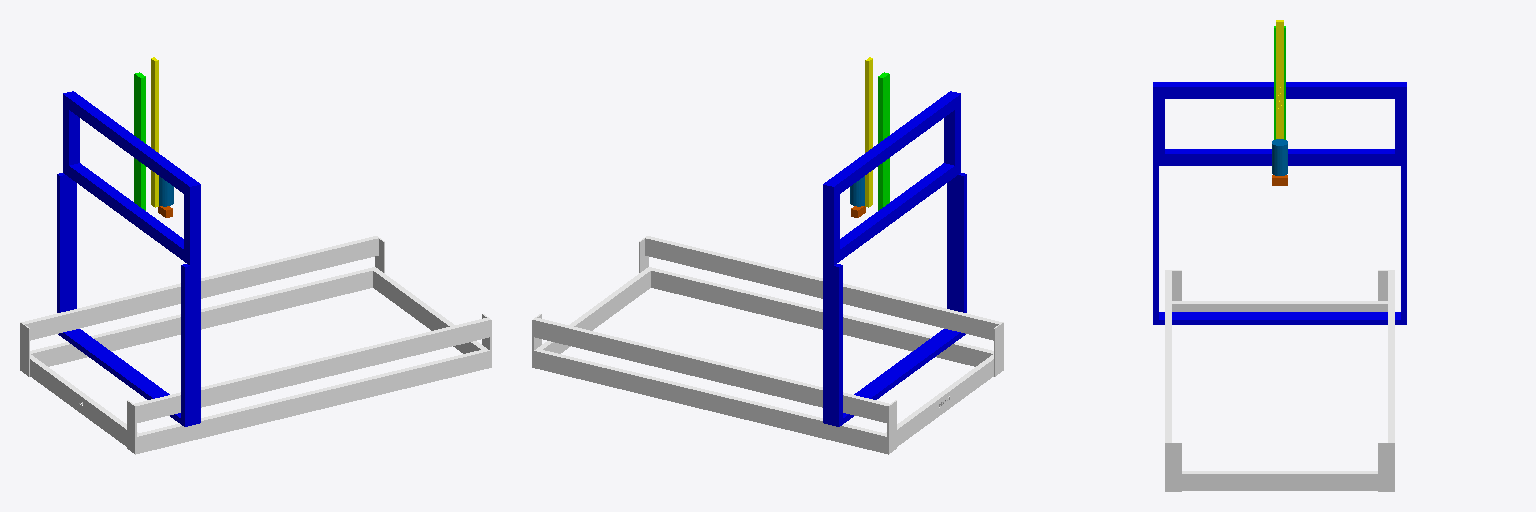
The robot description file, URDF, robot "gantry":
<?xml version="1.0" encoding="utf-8"?>
<!-- =================================================================================== -->
<!-- |    This document was autogenerated by xacro from gantry_robot.urdf.xacro        | -->
<!-- |    EDITING THIS FILE BY HAND IS NOT RECOMMENDED                                 | -->
<!-- =================================================================================== -->
<robot name="gantry">
  <gazebo>
    <plugin filename="libgazebo_ros_control.so" name="ros_control">
      <!--robotNamespace>/slave</robotNamespace-->
      <!--robotSimType>gazebo_ros_control/DefaultRobotHWSim</robotSimType-->
      <legacyModeNS>true</legacyModeNS>
    </plugin>
  </gazebo>
  <transmission name="gantryX_trans">
    <type>transmission_interface/SimpleTransmission</type>
    <joint name="gantryX">
      <hardwareInterface>hardware_interface/PositionJointInterface</hardwareInterface>
    </joint>
    <actuator name="gantryX_motor">
      <mechanicalReduction>1</mechanicalReduction>
    </actuator>
  </transmission>
  <transmission name="gantryY_trans">
    <type>transmission_interface/SimpleTransmission</type>
    <joint name="gantryY">
      <hardwareInterface>hardware_interface/PositionJointInterface</hardwareInterface>
    </joint>
    <actuator name="gantryY_motor">
      <mechanicalReduction>1</mechanicalReduction>
    </actuator>
  </transmission>
  <transmission name="gantryZ_trans">
    <type>transmission_interface/SimpleTransmission</type>
    <joint name="gantryZ">
      <hardwareInterface>hardware_interface/PositionJointInterface</hardwareInterface>
    </joint>
    <actuator name="gantryZ_motor">
      <mechanicalReduction>1</mechanicalReduction>
    </actuator>
  </transmission>
  <transmission name="gantryYAW_trans">
    <type>transmission_interface/SimpleTransmission</type>
    <joint name="gantryYAW">
      <hardwareInterface>hardware_interface/PositionJointInterface</hardwareInterface>
    </joint>
    <actuator name="gantryYAW_motor">
      <mechanicalReduction>1</mechanicalReduction>
    </actuator>
  </transmission>
  <gazebo reference="gantryX">
    <selfCollide>true</selfCollide>
  </gazebo>
  <gazebo reference="gantryY">
    <selfCollide>true</selfCollide>
  </gazebo>
  <gazebo reference="gantryZ">
    <selfCollide>true</selfCollide>
  </gazebo>
  <gazebo reference="gantryYAW">
    <selfCollide>true</selfCollide>
  </gazebo>
  <gazebo reference="gantryPITCH">
    <selfCollide>true</selfCollide>
  </gazebo>
  <link name="base_link">
    <!-- fixed structure -->
    <inertial>
      <mass value="1.0"/>
      <inertia ixx="1.0" ixy="0.0" ixz="0.0" iyy="1.0" iyz="0.0" izz="1.0"/>
    </inertial>
    <visual>
      <geometry>
        <mesh filename="package://gantry_description/meshes/Simulation_Base.STL"/>
      </geometry>
      <!--origin rpy="0 0 0" xyz="0.875 -0.565 0" /-->
      <origin rpy="0 0 0" xyz="0.875 0 0"/>
      <material name="white">
        <color rgba="1 1 1 1"/>
      </material>
    </visual>
    <collision>
      <geometry>
        <mesh filename="package://gantry_description/meshes/Simulation_Base.STL"/>
      </geometry>
      <!--origin rpy="0 0 0" xyz="0.875 -0.565 0" /-->
      <origin rpy="0 0 0" xyz="0.875 0 0"/>
    </collision>
  </link>
  <joint name="gantryX" type="prismatic">
    <parent link="base_link"/>
    <child link="gantryX_link"/>
    <limit effort="1" lower="0" upper="1.75" velocity="0.5"/>
    <axis xyz="1 0 0"/>
    <origin rpy="0 0 0" xyz="0 0 0.14288"/>
  </joint>
  <link name="gantryX_link">
    <inertial>
      <mass value="1.0"/>
      <inertia ixx="1.0" ixy="0.0" ixz="0.0" iyy="1.0" iyz="0.0" izz="1.0"/>
    </inertial>
    <visual>
      <geometry>
        <mesh filename="package://gantry_description/meshes/Simulation_X_Axis.STL"/>
      </geometry>
      <!--origin rpy="0 0 0" xyz="0 -0.565 0.5461" /-->
      <origin rpy="0 0 0" xyz="0 0 0.5461"/>
      <material name="blue">
        <color rgba="0 0 1 1"/>
      </material>
    </visual>
    <collision>
      <geometry>
        <mesh filename="package://gantry_description/meshes/Simulation_X_Axis.STL"/>
      </geometry>
      <!--origin rpy="0 0 0" xyz="0 -0.565 0.5461" /-->
      <origin rpy="0 0 0" xyz="0 0 0.5461"/>
    </collision>
  </link>
  <joint name="gantryY" type="prismatic">
    <parent link="gantryX_link"/>
    <child link="gantryY_link"/>
    <!--limit effort="1" lower="0" upper="1.0" velocity="0.5" /-->
    <limit effort="1" lower="-0.5" upper="0.5" velocity="0.5"/>
    <axis xyz="0 1 0"/>
    <!--axis xyz="0 -1 0" /-->
    <origin rpy="0 0 0" xyz="0.077 0 1.49793"/>
    <!-- 0.077 0 1.49793 -->
  </joint>
  <link name="gantryY_link">
    <inertial>
      <mass value="1.0"/>
      <inertia ixx="1.0" ixy="0.0" ixz="0.0" iyy="1.0" iyz="0.0" izz="1.0"/>
    </inertial>
    <visual>
      <geometry>
        <mesh filename="package://gantry_description/meshes/Simulation_Y_Axis.STL"/>
      </geometry>
      <origin rpy="0 0 0" xyz="0 0 0"/>
      <material name="green">
        <color rgba="0 1 0 1"/>
      </material>
    </visual>
    <collision>
      <geometry>
        <mesh filename="package://gantry_description/meshes/Simulation_Y_Axis.STL"/>
      </geometry>
      <origin rpy="0 0 0" xyz="0 0 0"/>
    </collision>
  </link>
  <joint name="gantryZ" type="prismatic">
    <parent link="gantryY_link"/>
    <child link="gantryZ_link"/>
    <limit effort="1" lower="0.0" upper="0.625" velocity="0.5"/>
    <axis xyz="0 0 -1"/>
    <!--origin rpy="3.1415 1.5707 3.1415" xyz="0.09843 0 -0.38044" /-->
    <!--origin rpy="3.1415 1.5707 3.1415" xyz="0.09843 0 -0.5334" /-->
    <origin rpy="0 0 0" xyz="0.09843 0 -0.4"/> <!-- xyz="0.09843 0 -0.5334" -->
  </joint>
  <link name="gantryZ_link">
    <inertial>
      <mass value="1.0"/>
      <inertia ixx="1.0" ixy="0.0" ixz="0.0" iyy="1.0" iyz="0.0" izz="1.0"/>
    </inertial>
    <visual>
      <geometry>
        <mesh filename="package://gantry_description/meshes/Simulation_Z_Axis.STL"/>
      </geometry>
      <origin rpy="0 1.5707 0" xyz="0 0 0"/>
      <!--origin rpy="3.1415 0 0" xyz="0 0 0" /-->
      <material name="yellow">
        <color rgba="1 1 0 1"/>
      </material>
    </visual>
    <collision>
      <geometry>
        <mesh filename="package://gantry_description/meshes/Simulation_Z_Axis.STL"/>
      </geometry>
      <origin rpy="0 1.5707 0" xyz="0 0 0"/>
      <!--origin rpy="3.1415 0 0" xyz="0 0 0" /-->
    </collision>
  </link>
  <!--  YAW ADDITION START -->
  <joint name="gantryYAW" type="revolute">
    <parent link="gantryZ_link"/>
    <!-- gantryZ_link -->
    <child link="gantryYAW_link"/>
    <origin rpy="0 0 0" xyz="0.075 0.0 0.1"/>
    <limit effort="1" lower="-3.1415" upper="3.1415" velocity="3.15"/>
    <axis xyz="0 0 1"/>
  </joint>
  <link name="gantryYAW_link">
    <inertial>
      <mass value="0.3"/>
      <inertia ixx="1.0" ixy="0.00" ixz="0.00" iyy="1.0" iyz="0.00" izz="1.0"/>
    </inertial>
    <visual>
      <geometry>
        <cylinder length="0.2" radius="0.05"/>
      </geometry>
    </visual>
    <origin rpy="0 0 0" xyz="0 0 0"/>
    <collision>
      <geometry>
        <cylinder length="0.2" radius="0.05"/>
      </geometry>
    </collision>
  </link>
  <!--   YAW ADDITION END -->

  <!--  PITCH ADDITION START -->

<joint name="gantryPITCH" type="revolute">
  <parent link="gantryYAW_link"/>
  <child link="gantryPITCH_link"/>
  <origin rpy="0 0 0" xyz="0.0 0.0 -0.15"/>
  <limit effort="1" lower="-1.5707" upper="1.5707" velocity="3.15"/>
  <axis xyz="0 1 0"/>
</joint>
<link name="gantryPITCH_link">
  <inertial>
    <mass value="0.3"/>
    <inertia ixx="1.0" ixy="0.00" ixz="0.00" iyy="1.0" iyz="0.00" izz="1.0"/>
  </inertial>
  <visual>
    <geometry>
      <!--cylinder length="0.075" radius="0.05"/-->
      <box size="0.05 0.1 0.05"/>
    </geometry>
  </visual>
  <origin rpy="1.5707 0 0" xyz="0 0 0"/>
  <collision>
    <geometry>
      <box size="0.05 0.1 0.05"/>
    </geometry>
  </collision>
</link>

  <!--  PITCH ADDITION END -->

  <joint name="ee_fixed_joint" type="fixed">
    <parent link="gantryPITCH_link"/>
    <!-- gantryZ_link -->
    <child link="ee_link"/>
    <origin rpy="0.0 0.0 0.0" xyz="0.0 0.0 -0.24"/>
    <!--origin xyz="0.1 0.0 0.0" rpy="0.0 0.0 0.0" /-->
  </joint>
  <link name="ee_link">
    <collision>
      <geometry>
        <box size="0.05 0.05 0.05"/>
      </geometry>
      <origin rpy="0 0 0" xyz="0 0 0"/>
    </collision>
    <inertial>
      <mass value="0.1"/>
      <inertia ixx="0.03" ixy="0.0" ixz="0.0" iyy="0.03" iyz="0.0" izz="0.03"/>
    </inertial>
  </link>
  <!-- ROS base_link to UR 'Base' Coordinates transform -->
  <link name="base"/>
  <joint name="base_link-base_fixed_joint" type="fixed">
    <!-- Note. this rotation is only needed as long as base_link itself is
                 not corrected wrt the real robot (ie: rotated over 180
                 degrees)
      -->
    <origin rpy="0 0 0" xyz="0 0 0"/>
    <!--0 0 ${-pi} -->
    <parent link="base_link"/>
    <child link="base"/>
  </joint>
  <!-- Frame coincident with all-zeros TCP on UR controller -->
  <link name="tool0"/>
  <joint name="gantryPITCH_link-tool0_fixed_joint" type="fixed">
    <origin rpy="0 0 0" xyz="0.05 0 0"/>
    <parent link="gantryPITCH_link"/>
    <child link="tool0"/>
  </joint>
  <!--link name="world" />
    <joint name="world_joint" type="fixed">
        <parent link="world" />
        <child link="base_link" />
        <origin rpy="0.0 0.0 0.0" xyz="0.0 0.0 0.0" />
    </joint-->
  <!--transmission name="trans_gantryX">
        <type>transmission_interface/SimpleTransmission</type>
        <joint name="gantryX">
            <hardwareInterface>hardware_interface/PositionJointInterface</hardwareInterface>
        </joint>
        <actuator name="gantryX_motor">
            <hardwareInterface>hardware_interface/PositionJointInterface</hardwareInterface>
            <mechanicalReduction>1</mechanicalReduction>
        </actuator>
    </transmission>

    <transmission name="trans_gantryY">
        <type>transmission_interface/SimpleTransmission</type>
        <joint name="gantryY">
            <hardwareInterface>hardware_interface/PositionJointInterface</hardwareInterface>
        </joint>
        <actuator name="gantryY_motor">
            <hardwareInterface>hardware_interface/PositionJointInterface</hardwareInterface>
            <mechanicalReduction>1</mechanicalReduction>
        </actuator>
    </transmission>

    <transmission name="trans_gantryZ">
        <type>transmission_interface/SimpleTransmission</type>
        <joint name="gantryZ">
            <hardwareInterface>hardware_interface/PositionJointInterface</hardwareInterface>
        </joint>
        <actuator name="gantryZ_motor">
            <hardwareInterface>hardware_interface/PositionJointInterface</hardwareInterface>
            <mechanicalReduction>1</mechanicalReduction>
        </actuator>
    </transmission>

    <gazebo>
        <plugin name="gazebo_ros_control" filename="libgazebo_ros_control.so">
            <robotNamespace>/</robotNamespace>
        </plugin>
    </gazebo-->
  <link name="world"/>
  <joint name="world_joint" type="fixed">
    <parent link="world"/>
    <child link="base_link"/>
    <origin rpy="0.0 0.0 0.0" xyz="0.0 0.0 0.0"/>
  </joint>
</robot>

--- Render facts (derived) ---
Views: 3 orthographic renders of the robot side by side, from view 1: azimuth 30°, elevation 25°; view 2: azimuth 150°, elevation 25°; view 3: azimuth 270°, elevation 25°.
Model gantry with 10 links and 9 joints (2 revolute, 3 prismatic, 4 fixed), rooted at world, posed every joint at zero.
Visible links, largest first — view 1: base_link, gantryX_link, gantryY_link, gantryZ_link; view 2: base_link, gantryX_link, gantryY_link, gantryZ_link; view 3: gantryX_link, base_link, gantryZ_link, gantryYAW_link.
Link boxes in pixels (box(x1,y1,x2,y2)): base_link: box(20, 236, 491, 454); gantryX_link: box(57, 91, 200, 426); gantryY_link: box(134, 72, 145, 210); gantryZ_link: box(151, 57, 158, 207); base_link: box(532, 236, 1003, 454); gantryX_link: box(823, 91, 966, 426); gantryY_link: box(878, 72, 889, 210); gantryZ_link: box(865, 57, 872, 207); gantryX_link: box(1153, 82, 1406, 324); base_link: box(1165, 270, 1394, 491); gantryZ_link: box(1276, 20, 1283, 138); gantryYAW_link: box(1272, 139, 1287, 175).
Bounding box of the posed robot: 2.46 × 1.52 × 2.21 m (x, y, z).
4 mesh visuals loaded from 4 distinct referenced files (4 binary STL).